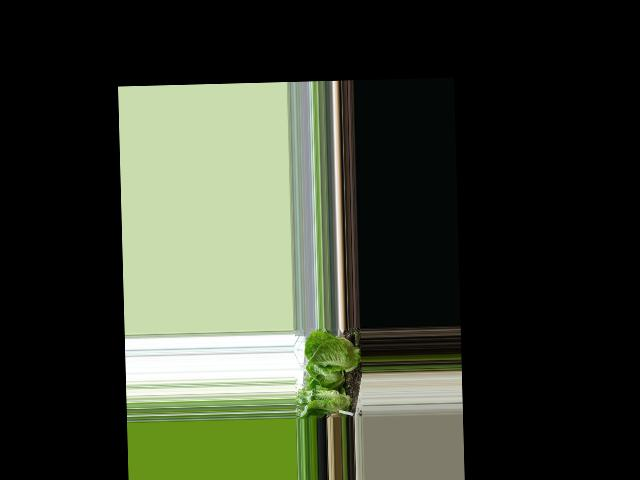lettuce: (300, 383, 357, 415)
